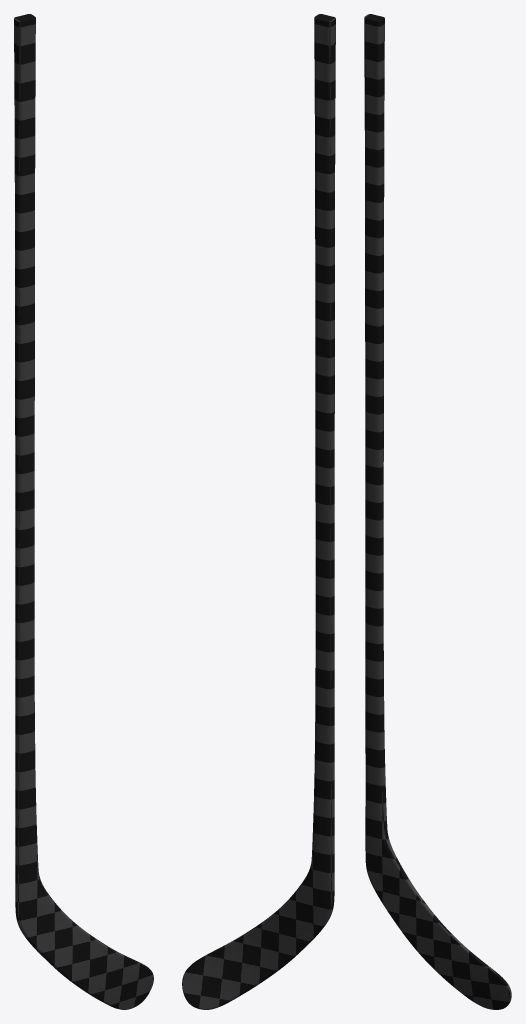
Rendered from P82-SBO.glb.
The picture shows the model from 3 angles, left to right: view 1: azimuth 30°, elevation 25°; view 2: azimuth 150°, elevation 25°; view 3: azimuth 330°, elevation 25°; orthographic projection. The views are drawn at different scales.
Visible parts, largest first — view 1: geometry_0; view 2: geometry_0; view 3: geometry_0.
Boxes of the visible parts, box(x1,y1,x2,y2) form: geometry_0: box(14, 14, 153, 1009); geometry_0: box(182, 14, 335, 1009); geometry_0: box(364, 14, 511, 1009).
Bounding box in the file's own units: 245 × 1650 × 41.38.
Materials: 1 (1 with a texture image).
